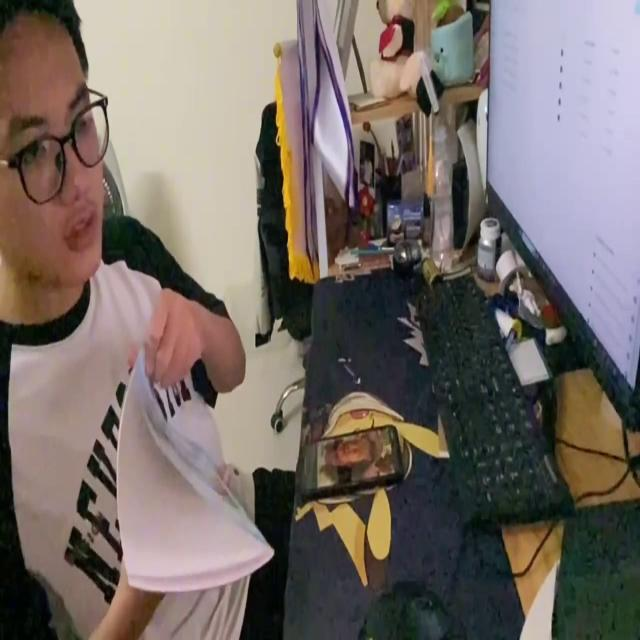book: (110, 340, 275, 592)
laptop: (483, 0, 640, 425)
phone: (294, 422, 406, 496)
student: (1, 0, 292, 640)
